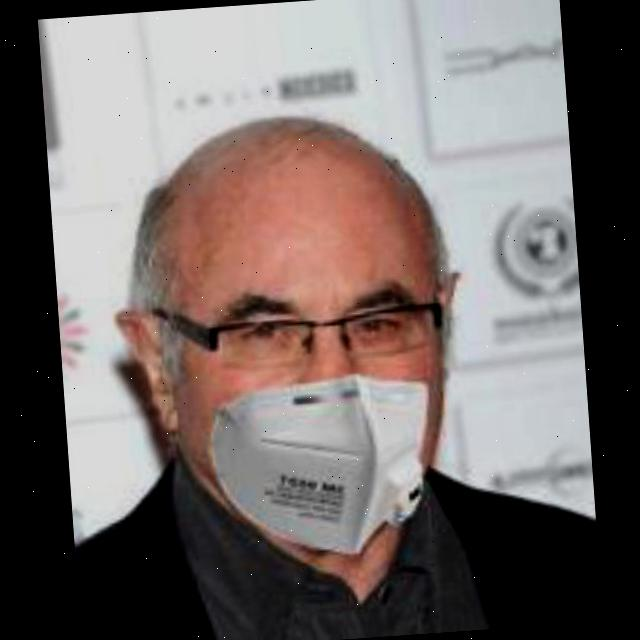suspicion: (86, 88, 506, 557)
